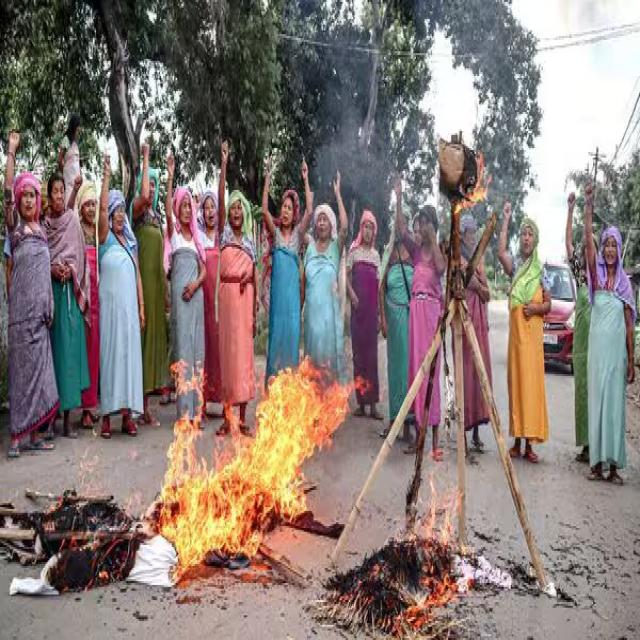fire: (158, 358, 370, 581), (422, 471, 464, 549), (456, 146, 487, 216)
